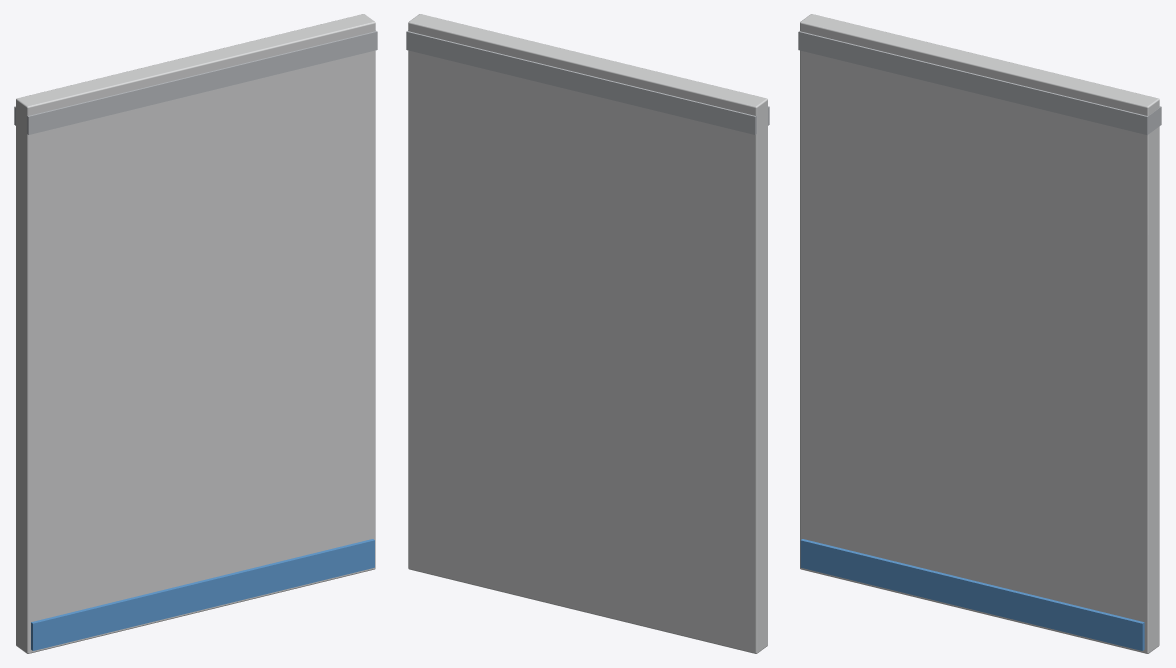
The model's file is solar-system-and-astronauts-gallery-wall-module-85707ba2__39265.glb.
3 views of the same model, side by side, from view 1: azimuth 30°, elevation 25°; view 2: azimuth 150°, elevation 25°; view 3: azimuth 330°, elevation 25° (orthographic).
Visible parts, largest first — view 1: gallery-wall-module; view 2: gallery-wall-module; view 3: gallery-wall-module.
Boxes of the visible parts, x1,y1,x2,y2 form: gallery-wall-module: (14,14,377,653); gallery-wall-module: (406,14,769,653); gallery-wall-module: (798,14,1161,653).
Bounding box in the file's own units: 2 × 3 × 0.152.
